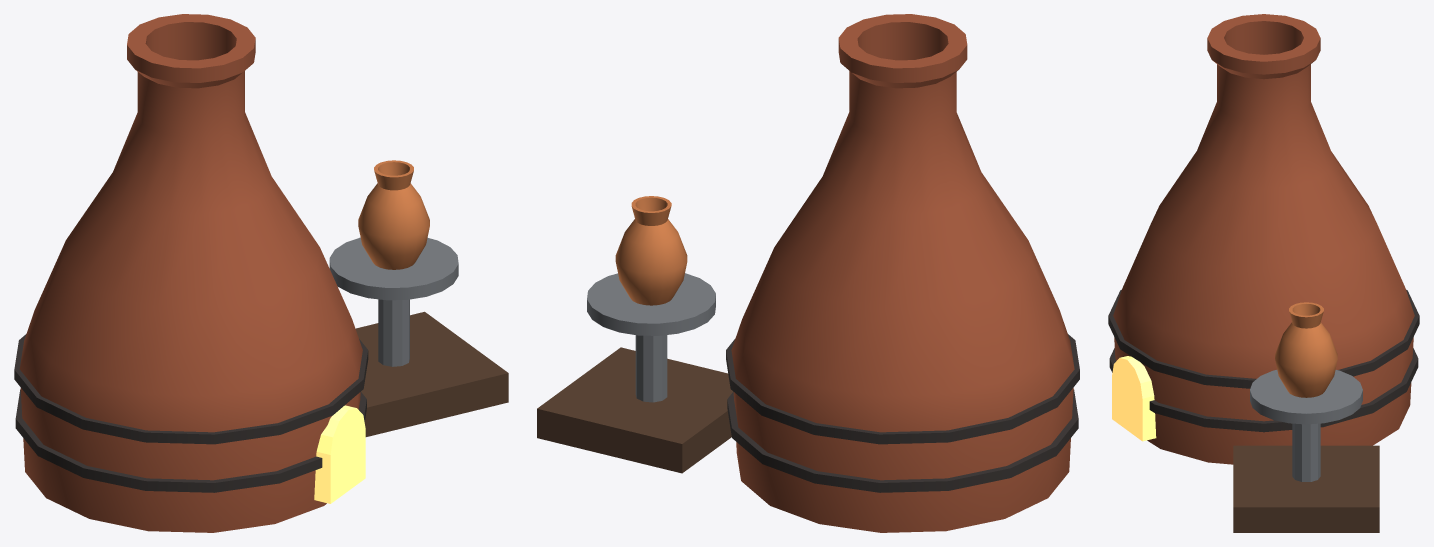
The model's file is kiln.glb.
3 views of the same model, side by side, from view 1: azimuth 30°, elevation 25°; view 2: azimuth 150°, elevation 25°; view 3: azimuth 270°, elevation 25° (orthographic). The views are drawn at different scales.
Parts seen in each view (by area): view 1: Kiln, Platform, Bands, WheelHead, Vase, Door; view 2: Kiln, Platform, Bands, WheelHead, Vase; view 3: Kiln, Platform, Bands, WheelHead, Vase, Door.
Boxes of the visible parts, bbox=[...] form: Kiln: bbox=[19, 14, 362, 532]; Platform: bbox=[355, 311, 508, 436]; Bands: bbox=[14, 334, 368, 492]; WheelHead: bbox=[329, 237, 458, 366]; Vase: bbox=[358, 160, 429, 269]; Door: bbox=[314, 405, 365, 503]; Kiln: bbox=[731, 14, 1074, 532]; Platform: bbox=[537, 347, 733, 473]; Bands: bbox=[726, 334, 1079, 492]; WheelHead: bbox=[587, 273, 715, 402]; Vase: bbox=[615, 196, 687, 305]; Kiln: bbox=[1113, 14, 1414, 464]; Platform: bbox=[1233, 445, 1379, 532]; Bands: bbox=[1108, 289, 1419, 432]; WheelHead: bbox=[1250, 370, 1362, 481]; Vase: bbox=[1275, 302, 1337, 397]; Door: bbox=[1112, 356, 1156, 441].
Bounding box in the file's own units: 1.94 × 1.72 × 1.32.
